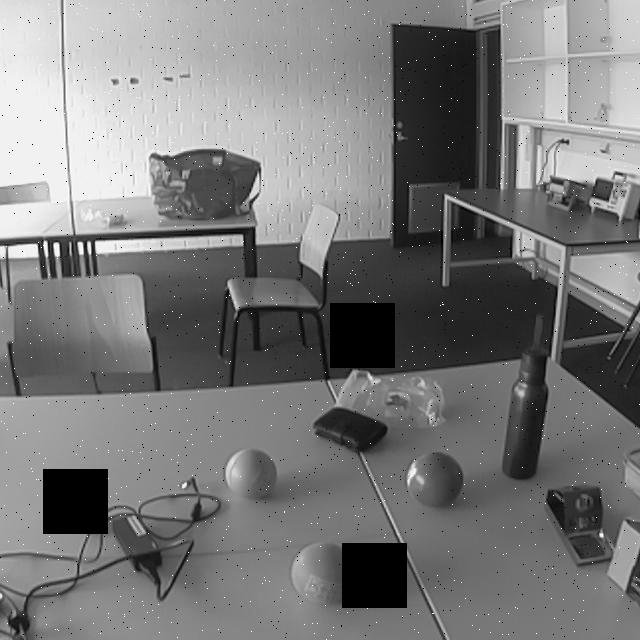ball: (286, 539, 362, 607), (404, 448, 465, 511), (222, 445, 280, 505)
